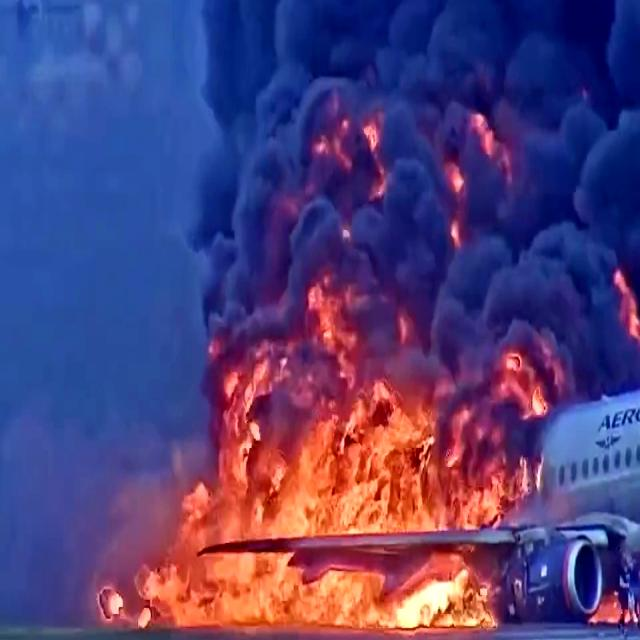fire: (219, 401, 535, 510), (192, 564, 474, 620)
smoke: (270, 0, 640, 251)
